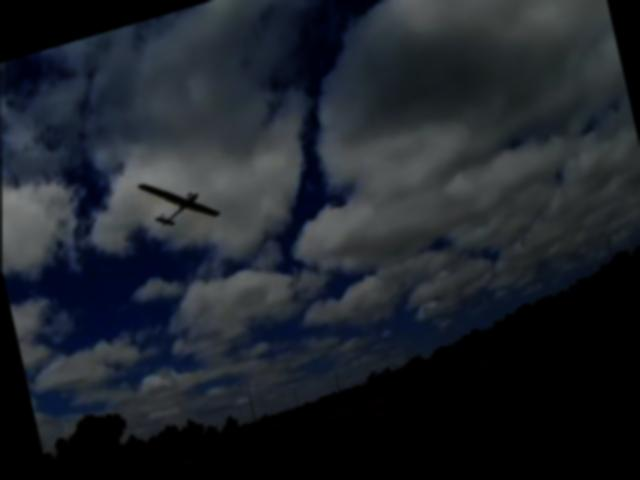uav: (124, 152, 234, 258)
